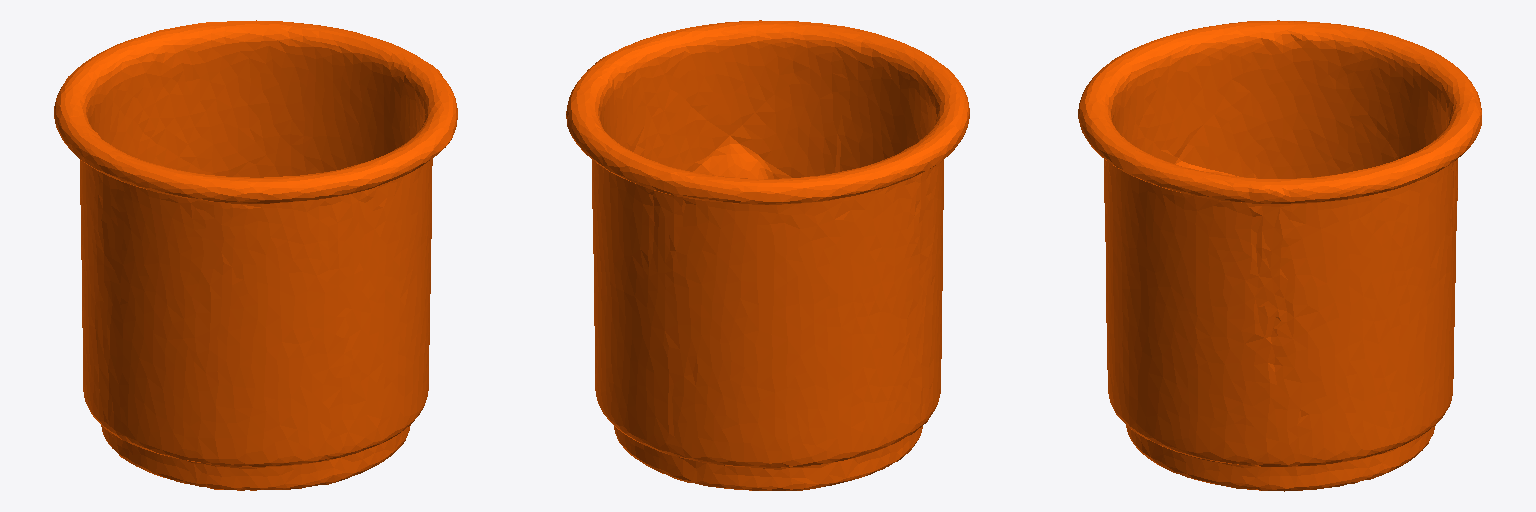
robot.urdf — 065-f_cups:
<?xml version="1.0" ?>
<robot name="065-f_cups">
   <material name="obj_color">
      <color rgba="1.0 0.423529411765 0.0392156862745 1.0"/>
   </material>
   <link name="top">
      <inertial>
         <origin rpy="8.54724968069944e-05 9.43100868569445e-05 9.960663581113205e-05" xyz="-0.005202560208883042 0.0001260582084218675 0.0006341576474497042"/>
         <mass value="0.09698123162193011"/>
         <inertia ixx="8.708305523640478e-05" ixy="2.246257824484106e-06" ixz="-3.888670869016837e-06" iyy="9.529901434603213e-05" iyz="-1.633928607750817e-06" izz="9.700714989263401e-05"/>
      </inertial>
      <visual>
         <origin rpy="0 0 0" xyz="0 0 0"/>
         <geometry>
            <mesh filename="top_watertight_tiny.stl" scale="1 1 1"/>
         </geometry>
         <material name="obj_color"/>
      </visual>
      <collision>
         <origin rpy="0 0 0" xyz="0 0 0"/>
         <geometry>
            <mesh filename="top_watertight_tiny.obj" scale="1 1 1"/>
         </geometry>
      </collision>
   </link>
   <link name="bottom">
      <inertial>
         <origin rpy="1.633333333199431e-08 1.633333333199431e-08 1.633333333362855e-08" xyz="0.3464080000000008 0.3464080000000008 0.3464080000000008"/>
         <mass value="0.0009800000000000017"/>
         <inertia ixx="1.633333333253906e-08" ixy="5.447480642029219e-19" ixz="5.447480642029219e-19" iyy="1.633333333253906e-08" iyz="5.447480642029219e-19" izz="1.633333333253906e-08"/>
      </inertial>
      <visual>
         <origin rpy="0 0 0" xyz="0 0 0"/>
         <geometry>
            <mesh filename="bottom_watertight_tiny.stl" scale="1 1 1"/>
         </geometry>
         <material name="obj_color"/>
      </visual>
   </link>
   <joint name="rotation" type="revolute">
      <origin xyz="0 0 0"/>
      <axis xyz="0 0 -1"/>
      <parent link="bottom"/>
      <child link="top"/>
      <dynamics damping="1.0" friction="1.0"/>
      <limit effort="0.1" velocity="0.1" lower="0" upper="0.001"/>
   </joint>
</robot>

--- What the picture shows (computed from the rendered views, not written in the file) ---
3 views of the same robot in one strip: view 1: azimuth 30°, elevation 25°; view 2: azimuth 150°, elevation 25°; view 3: azimuth 270°, elevation 25° (orthographic).
Robot: 065-f_cups — 2 links, 1 joints (1 revolute); root link bottom; default pose: all joints at 0.
Links seen in each view (by area): view 1: top; view 2: top; view 3: top.
Boxes of the visible links, bbox=[...] form: top: bbox=[54, 20, 457, 490]; top: bbox=[566, 20, 969, 490]; top: bbox=[1078, 20, 1481, 491].
Size in the robot's own frame: 0.0807 by 0.0809 by 0.0722 metres.
1 mesh visuals loaded from 2 distinct referenced files (1 binary STL); not drawn: 1 (reference not matched to a file when rendering).
